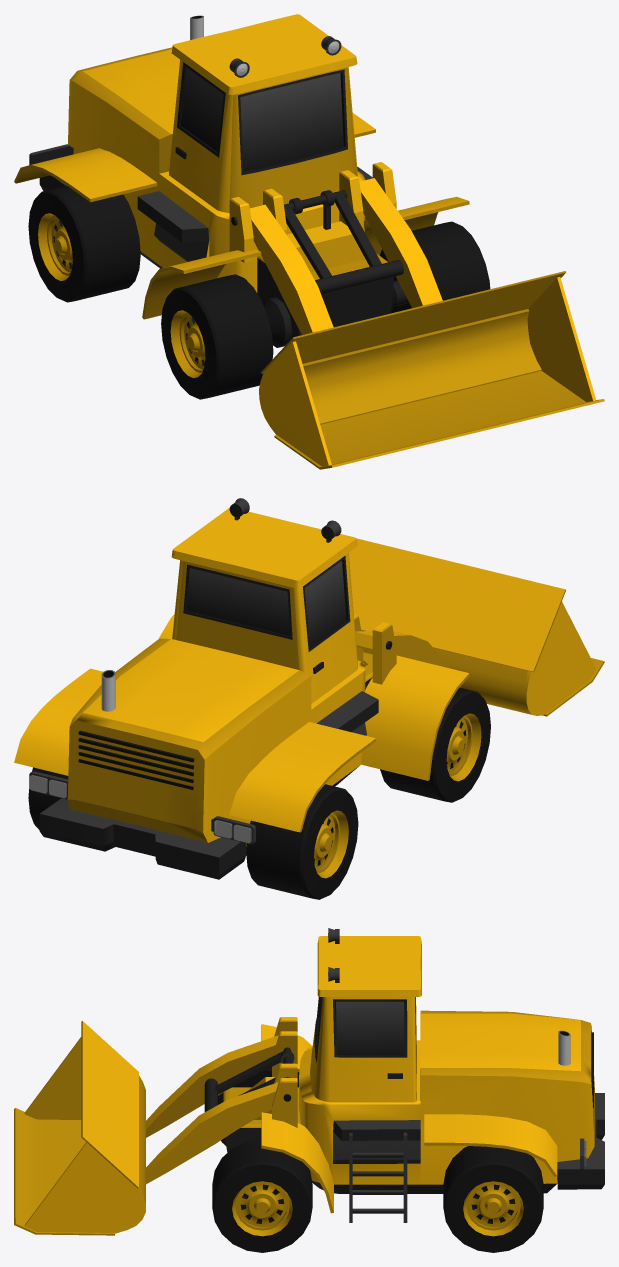
Rendered from car3.fbx.
3 renders of one model, top to bottom at view 1: azimuth 30°, elevation 25°; view 2: azimuth 150°, elevation 25°; view 3: azimuth 270°, elevation 25°, orthographic. The views are drawn at different scales.
Visible parts, largest first — view 1: pPlane1; view 2: pPlane1; view 3: pPlane1.
Boxes of the visible parts, <box> form: pPlane1: <box>14,14,604,469</box>; pPlane1: <box>14,498,604,899</box>; pPlane1: <box>14,928,604,1252</box>.
Size of the model in its own units: 74.88 by 71.12 by 154.
